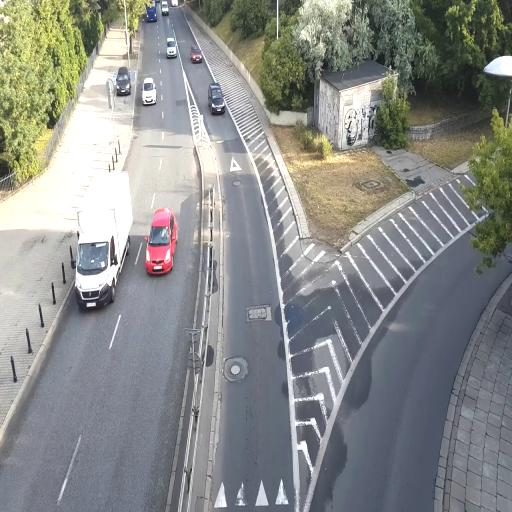vehicle: (74, 170, 134, 311), (145, 209, 178, 276), (145, 209, 177, 276), (208, 82, 226, 114), (114, 67, 132, 96), (141, 77, 157, 104), (190, 41, 203, 65), (165, 35, 178, 58)
